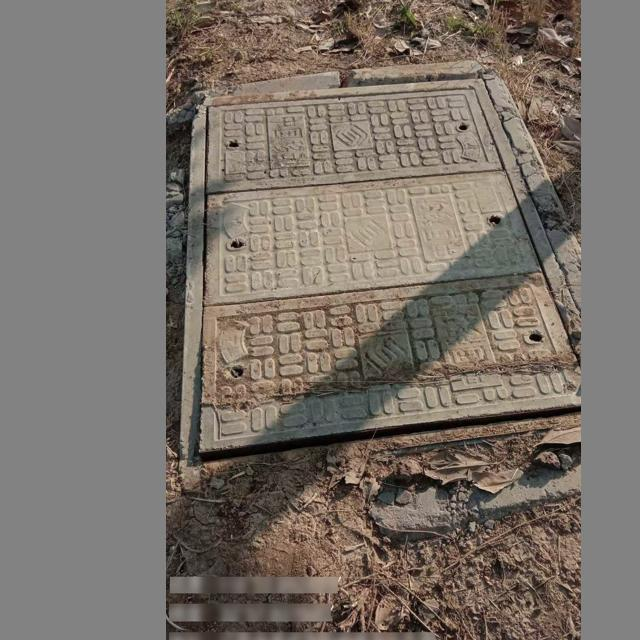circle: (171, 61, 581, 476)
